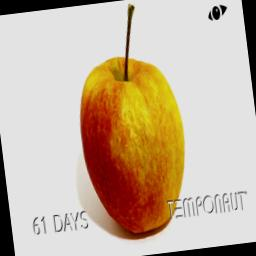Apple Unripe: (64, 0, 196, 242)
